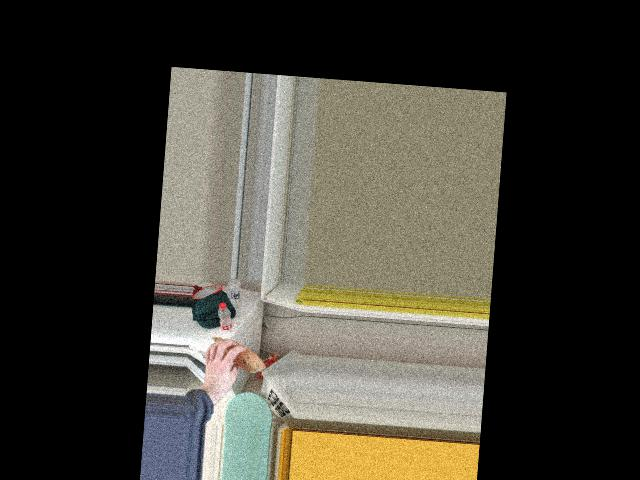sweet_potato: (206, 336, 265, 373)
